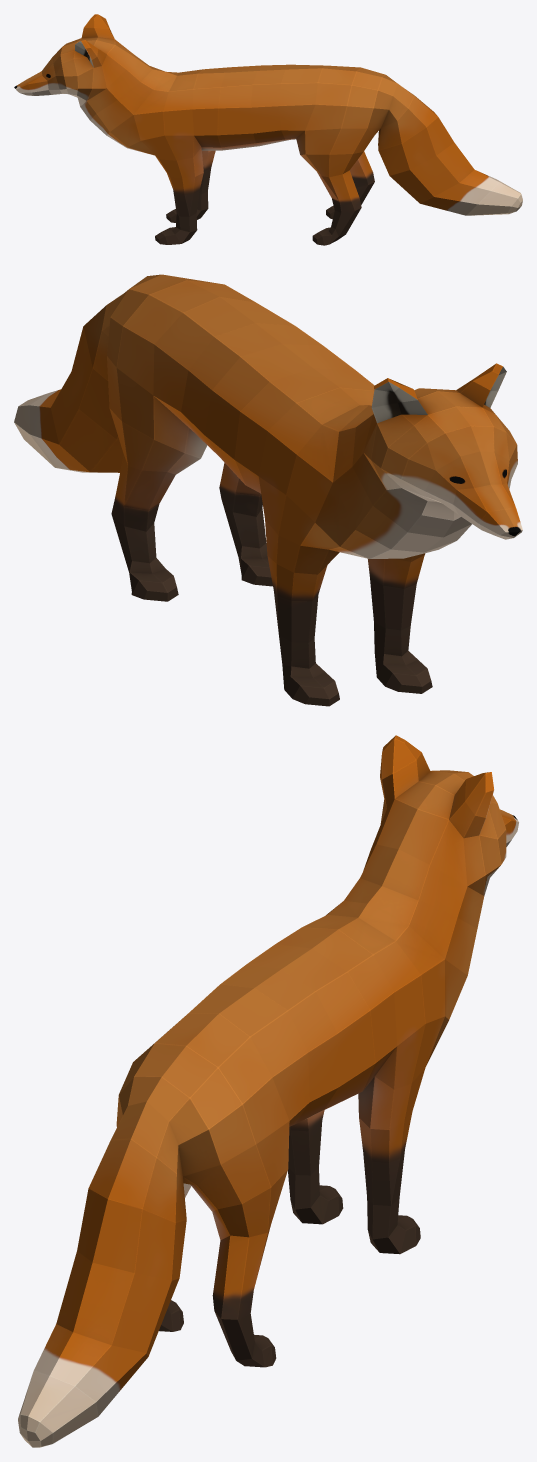
The model's file is fox_mesh.002_lev1_lev2.glb.
3 renders of one model, top to bottom at view 1: azimuth 30°, elevation 25°; view 2: azimuth 150°, elevation 25°; view 3: azimuth 270°, elevation 25°, orthographic. The views are drawn at different scales.
Parts seen in each view (by area): view 1: fox_mesh.002_lev1_lev2; view 2: fox_mesh.002_lev1_lev2; view 3: fox_mesh.002_lev1_lev2.
Part boxes in pixels (box(x1,y1,x2,y2)): fox_mesh.002_lev1_lev2: box(14, 14, 522, 245); fox_mesh.002_lev1_lev2: box(14, 274, 522, 706); fox_mesh.002_lev1_lev2: box(18, 735, 518, 1447).
Size of the model in its own units: 4.57 by 2.27 by 2.55.
Materials: 1 (1 with a texture image).
